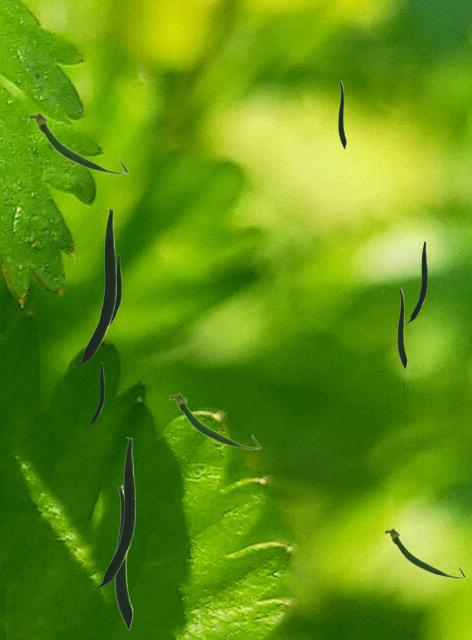french_bean: (72, 208, 115, 366), (27, 111, 128, 174), (93, 437, 134, 588), (168, 392, 260, 449), (383, 527, 465, 578), (114, 484, 132, 629), (406, 241, 426, 322), (88, 362, 103, 424), (397, 287, 406, 368), (110, 254, 120, 325), (338, 80, 345, 148)
